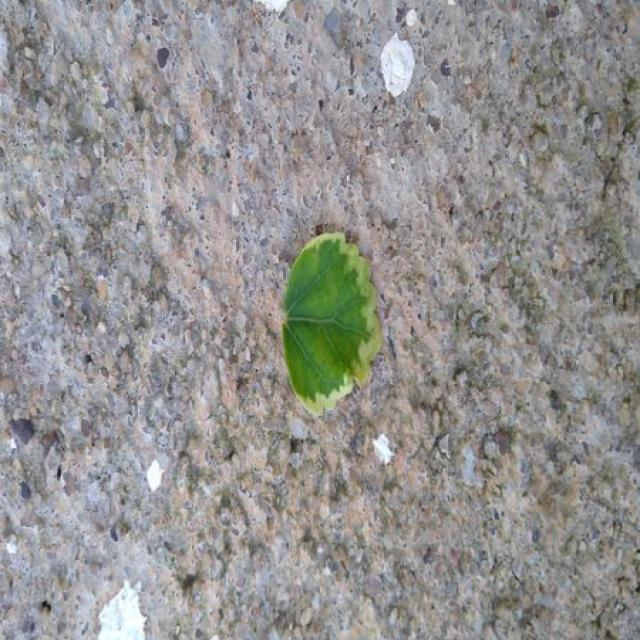Hibiscus: (283, 232, 383, 414)
